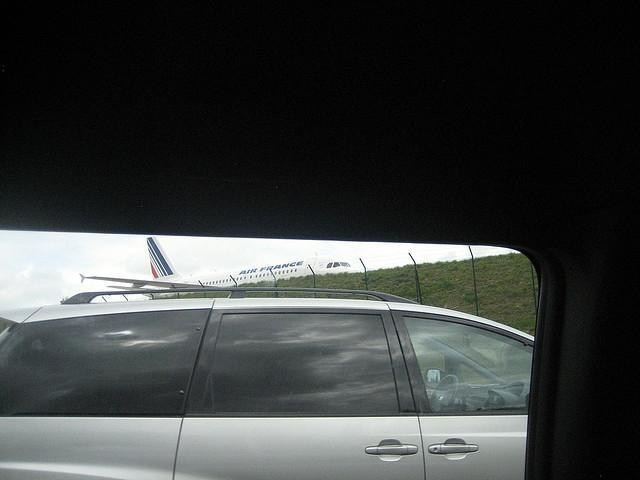car: (0, 292, 537, 476)
